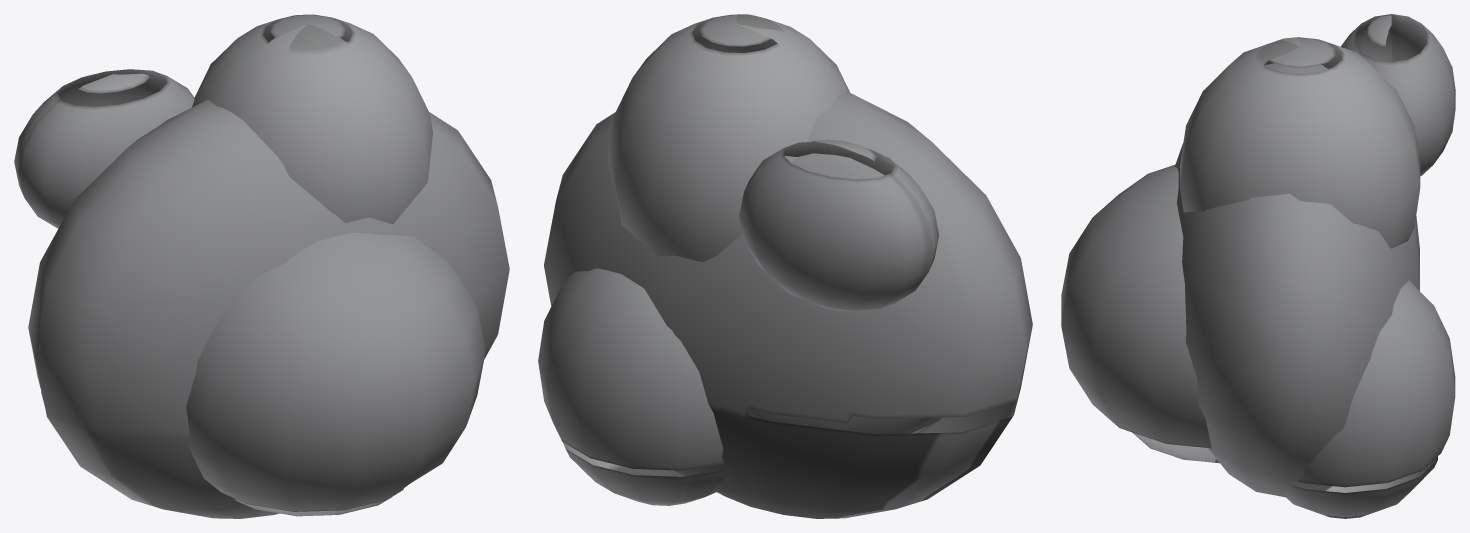
The picture shows the model from 3 angles, left to right: view 1: azimuth 30°, elevation 25°; view 2: azimuth 150°, elevation 25°; view 3: azimuth 270°, elevation 25°; orthographic projection. The views are drawn at different scales.
Size of the model in its own units: 0.8559 by 0.8178 by 0.6552.
